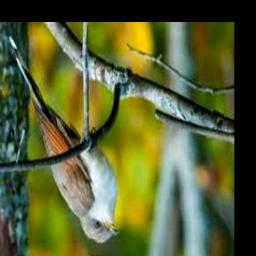Cuckoo: (8, 37, 119, 243)
